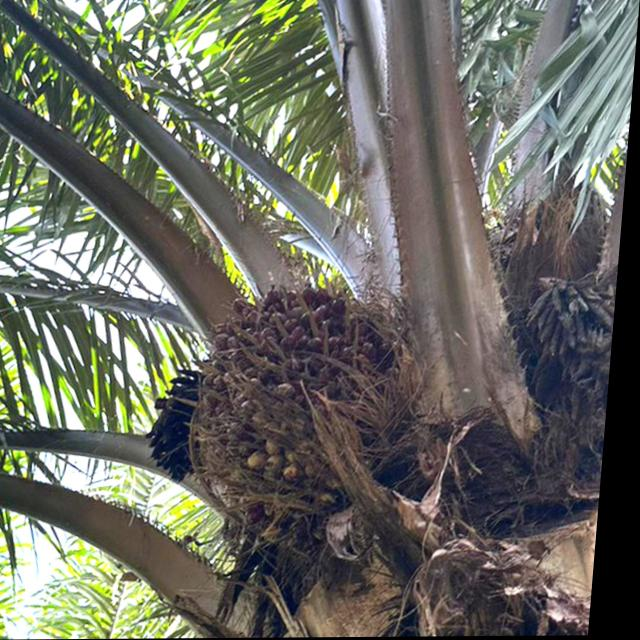ripe: (157, 262, 462, 558)
